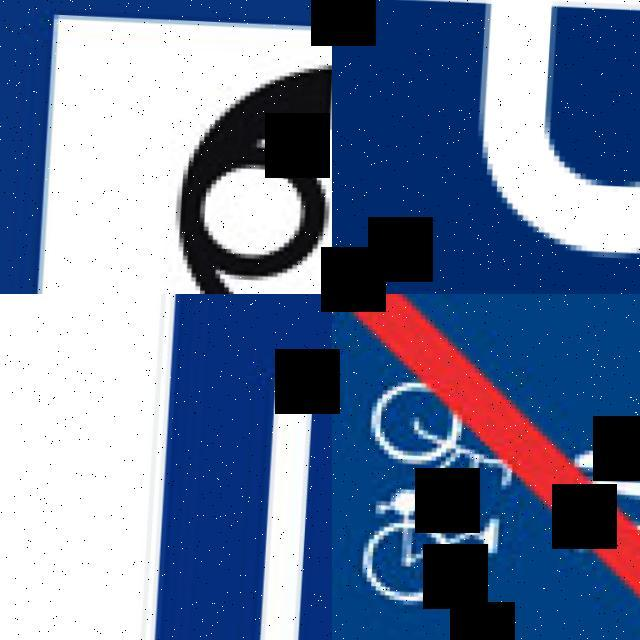112: (332, 294, 640, 640)
21: (124, 294, 332, 640)
89: (0, 0, 332, 294)
Parking: (332, 0, 640, 294)
